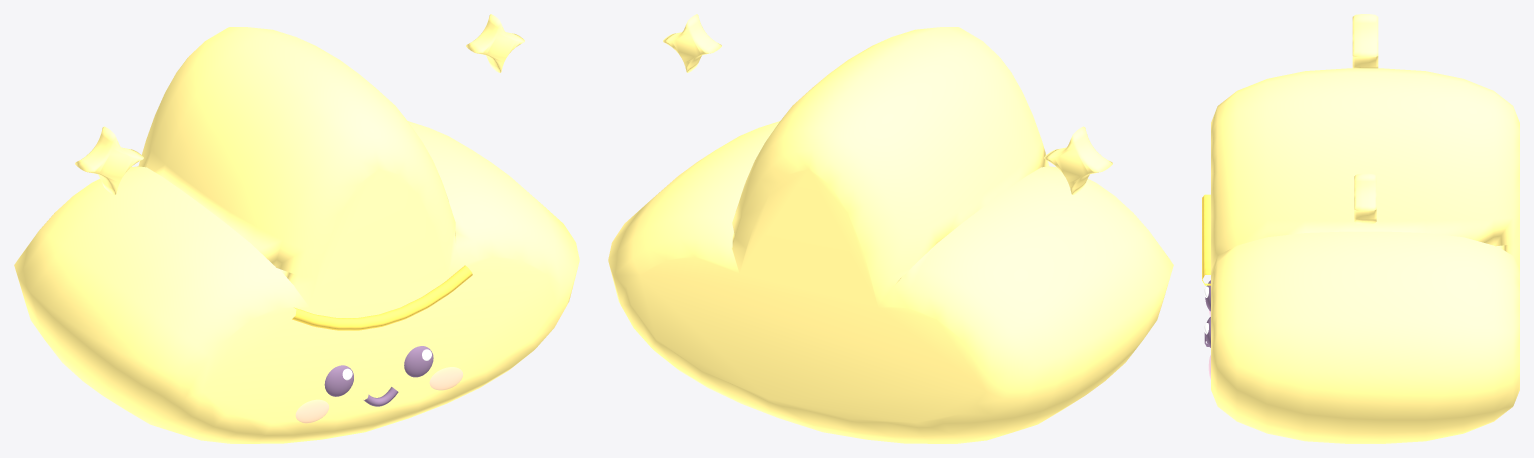
Rendered from life_goldumpling.glb.
3 views of the same model, side by side, from view 1: azimuth 30°, elevation 25°; view 2: azimuth 150°, elevation 25°; view 3: azimuth 270°, elevation 25° (orthographic). The views are drawn at different scales.
Visible parts, largest first — view 1: wrap_goldumpling_1, object 3, object 1; view 2: wrap_goldumpling_1; view 3: wrap_goldumpling_1.
Part boxes in pixels (left/top/right/bottom): wrap_goldumpling_1: left=14, top=14, right=579, bottom=443; object 3: left=404, top=346, right=433, bottom=377; object 1: left=324, top=365, right=353, bottom=396; wrap_goldumpling_1: left=608, top=14, right=1173, bottom=443; wrap_goldumpling_1: left=1202, top=14, right=1519, bottom=443.
Size of the model in its own units: 4.48 by 3.15 by 2.76.
